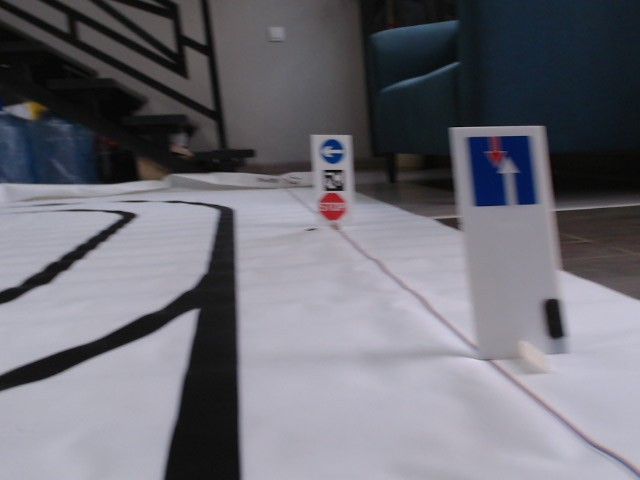Stop: (318, 193, 346, 221)
priority_movement: (467, 136, 536, 206)
